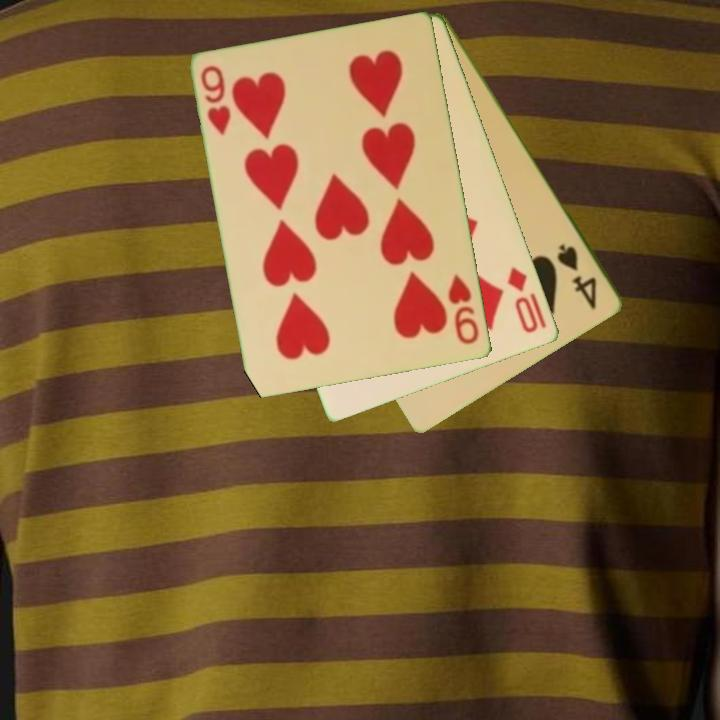10d: (503, 263, 542, 337)
4s: (554, 240, 601, 312)
9h: (445, 271, 482, 348), (197, 62, 234, 139)
